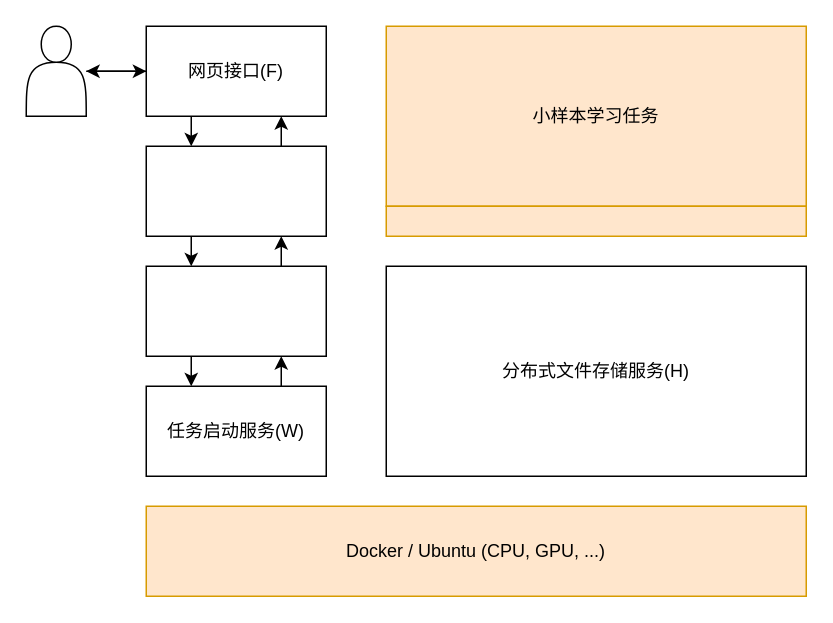
The diagram is 833 pixels wide and 623 high, and some of its shapes have lost their labels. Each missing label, with the centre of its shape:
"任务分发服务(D)" belongs at (235,310).
"基于Docker In Docker的运行环境管理" belongs at (595,220).
"应用服务平台(B)" belongs at (235,190).
